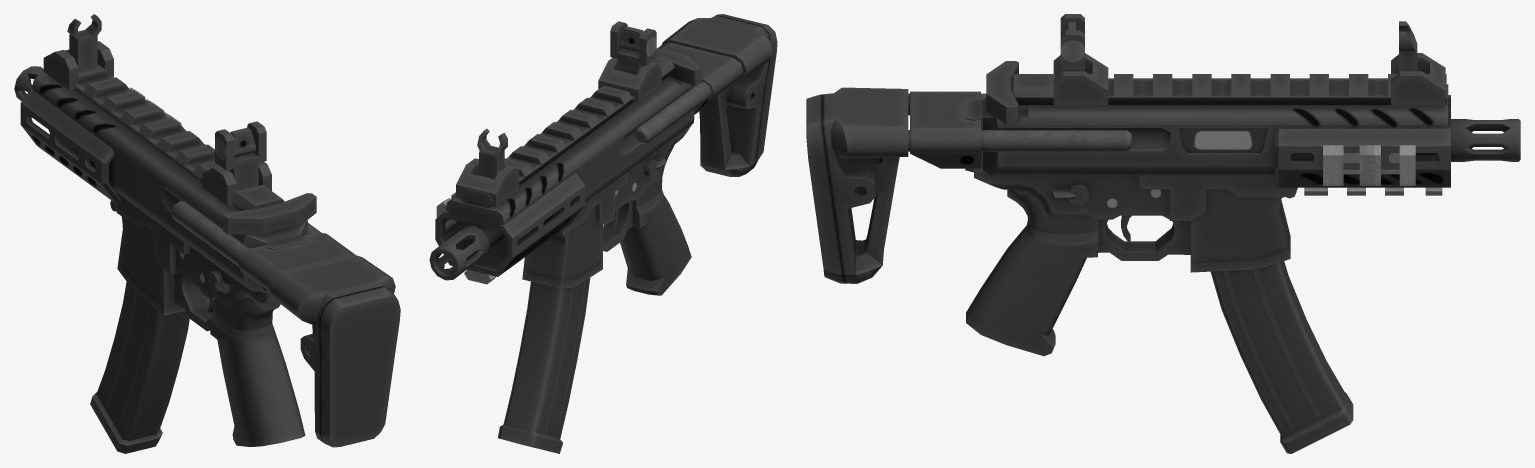
File: IG_Gun_MPX.fbx
3 renders of one model, left to right at view 1: azimuth 30°, elevation 25°; view 2: azimuth 150°, elevation 25°; view 3: azimuth 270°, elevation 25°, orthographic. The views are drawn at different scales.
Parts seen in each view (by area): view 1: WPN_MPX, HideIf_Stock, HideIf_Scope, HideIf_Muzzle; view 2: WPN_MPX, HideIf_Stock, HideIf_Scope, HideIf_Muzzle; view 3: WPN_MPX, HideIf_Stock, HideIf_Scope, ShowIf_Tec, HideIf_Muzzle, ShowIf_Grip.
Boxes of the visible parts, left/top/right/bottom form: WPN_MPX: left=20, top=64, right=316, bottom=453; HideIf_Stock: left=171, top=201, right=400, bottom=447; HideIf_Scope: left=43, top=14, right=271, bottom=206; HideIf_Muzzle: left=14, top=66, right=45, bottom=101; WPN_MPX: left=435, top=48, right=701, bottom=453; HideIf_Stock: left=634, top=14, right=777, bottom=176; HideIf_Scope: left=456, top=21, right=661, bottom=206; HideIf_Muzzle: left=429, top=225, right=490, bottom=280; WPN_MPX: left=965, top=61, right=1450, bottom=453; HideIf_Stock: left=806, top=87, right=1131, bottom=283; HideIf_Scope: left=1053, top=14, right=1445, bottom=105; ShowIf_Tec: left=1323, top=145, right=1415, bottom=185; HideIf_Muzzle: left=1448, top=119, right=1520, bottom=161; ShowIf_Grip: left=1304, top=187, right=1442, bottom=195.
Bounding box in the file's own units: 0.1548 × 0.5444 × 0.8372.
